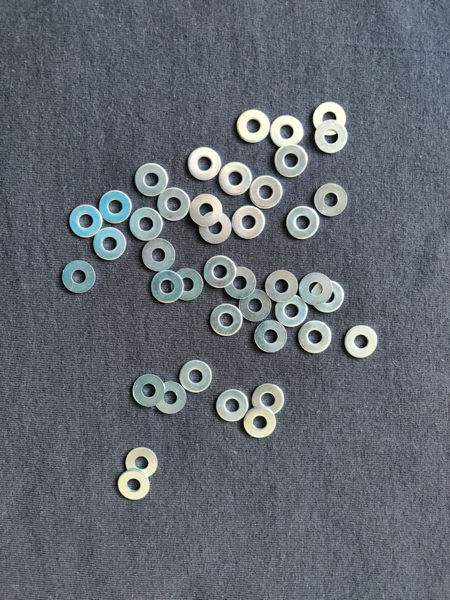circle: (312, 181, 349, 221), (140, 237, 178, 275), (212, 387, 251, 424), (127, 206, 166, 243), (127, 373, 167, 409), (233, 108, 272, 144), (61, 259, 98, 296), (341, 324, 378, 361), (123, 445, 159, 482), (298, 319, 334, 356), (157, 185, 192, 223), (238, 286, 273, 324), (91, 228, 127, 264), (314, 119, 350, 155), (311, 278, 347, 314), (252, 319, 288, 355), (186, 147, 223, 182), (286, 204, 323, 239), (209, 304, 244, 341), (223, 265, 258, 302), (249, 383, 287, 417), (219, 160, 253, 198), (153, 382, 189, 417), (178, 359, 214, 394), (313, 101, 348, 137), (249, 174, 284, 210), (273, 144, 311, 177), (98, 189, 132, 225), (68, 205, 103, 239), (231, 205, 265, 240), (202, 255, 237, 289), (151, 269, 184, 305), (199, 212, 232, 248), (264, 268, 298, 302), (275, 293, 309, 327), (135, 162, 168, 197), (299, 271, 332, 305), (191, 193, 223, 228), (271, 114, 303, 149), (243, 407, 279, 438), (172, 269, 205, 302), (118, 471, 151, 501)
